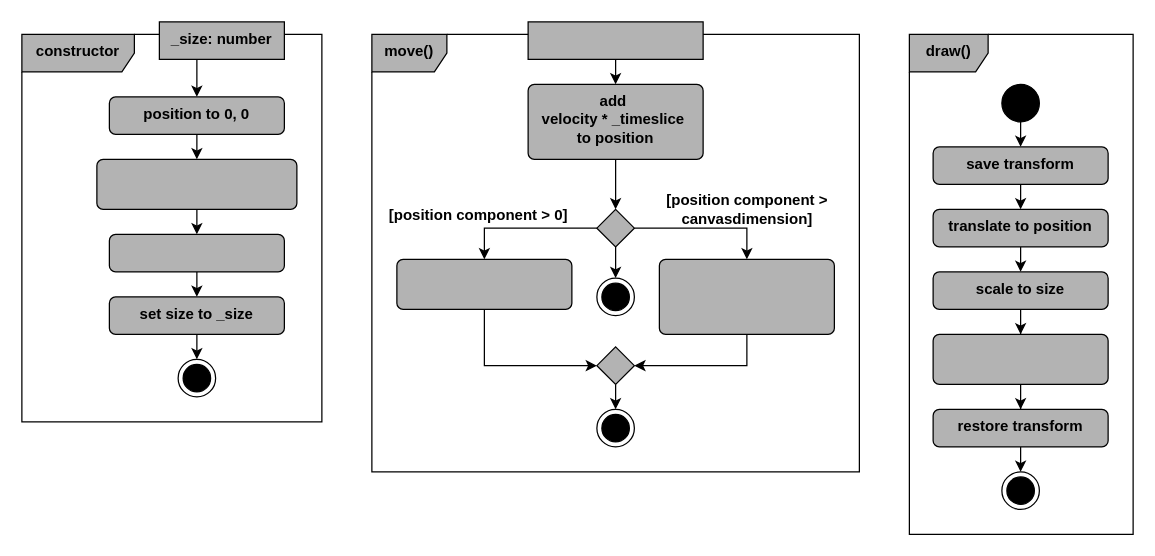
This 1155x556 diagram has some shape labels left out. The shapes that lost their labels are listed below. From the top down, each one's centre as x and y in pixels, then its label:
At [615,40]: "_timeslice: number".
At [196,183]: "set velocity to rdm direction & rdm length".
At [196,252]: "coose rdm type".
At [484,283]: "add canvas dimension to component".
At [746,296]: "subtract canvas dimension from component".
At [1020,358]: "draw path representing type".
